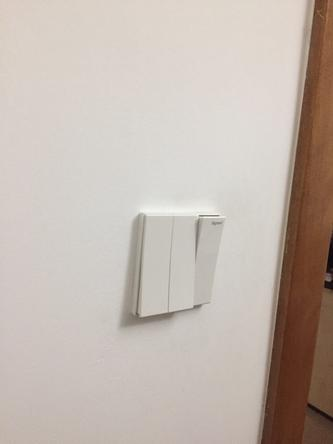switch: (196, 216, 226, 309), (146, 218, 165, 316), (175, 217, 191, 314)
